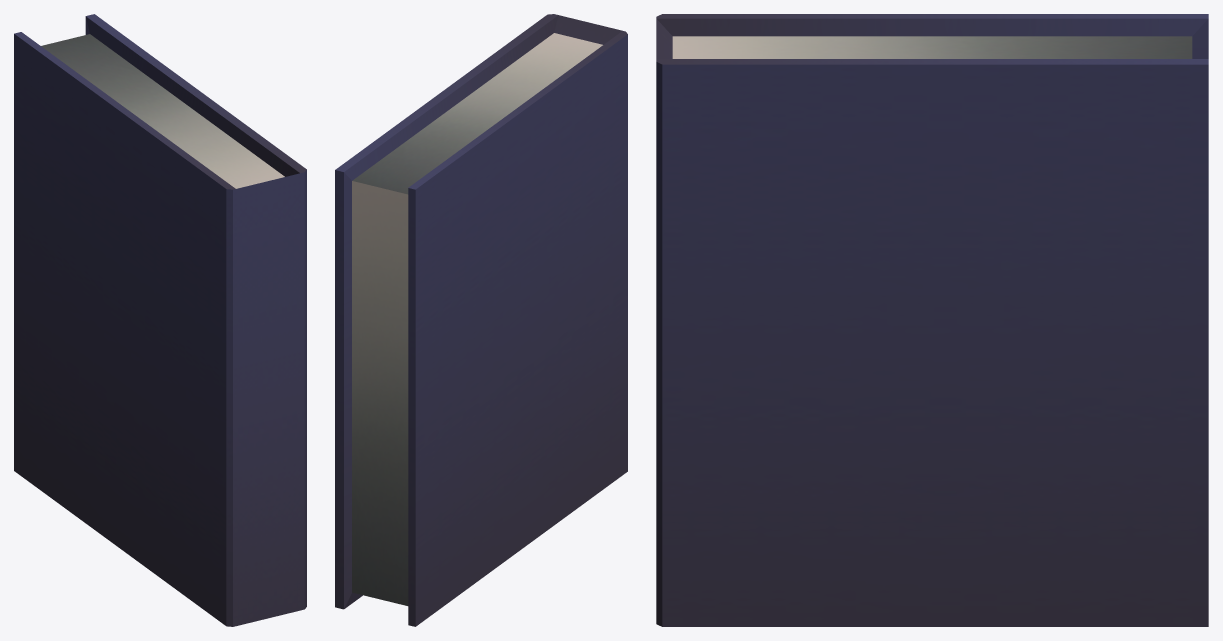
Rendered from propBook3_mesh.fbx.
The picture shows the model from 3 angles, left to right: view 1: azimuth 30°, elevation 25°; view 2: azimuth 150°, elevation 25°; view 3: azimuth 270°, elevation 25°; orthographic projection. The views are drawn at different scales.
Parts seen in each view (by area): view 1: book3; view 2: book3; view 3: book3.
Part boxes in pixels (<box>): book3: <box>14,14,306,626</box>; book3: <box>335,14,627,626</box>; book3: <box>656,14,1208,626</box>.
Size of the model in its own units: 0.0674 by 0.3499 by 0.3113.
